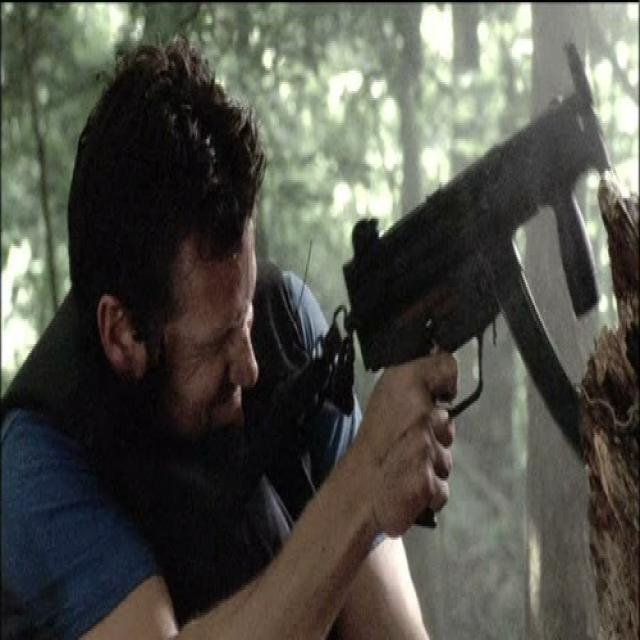rifle: (199, 41, 613, 526)
